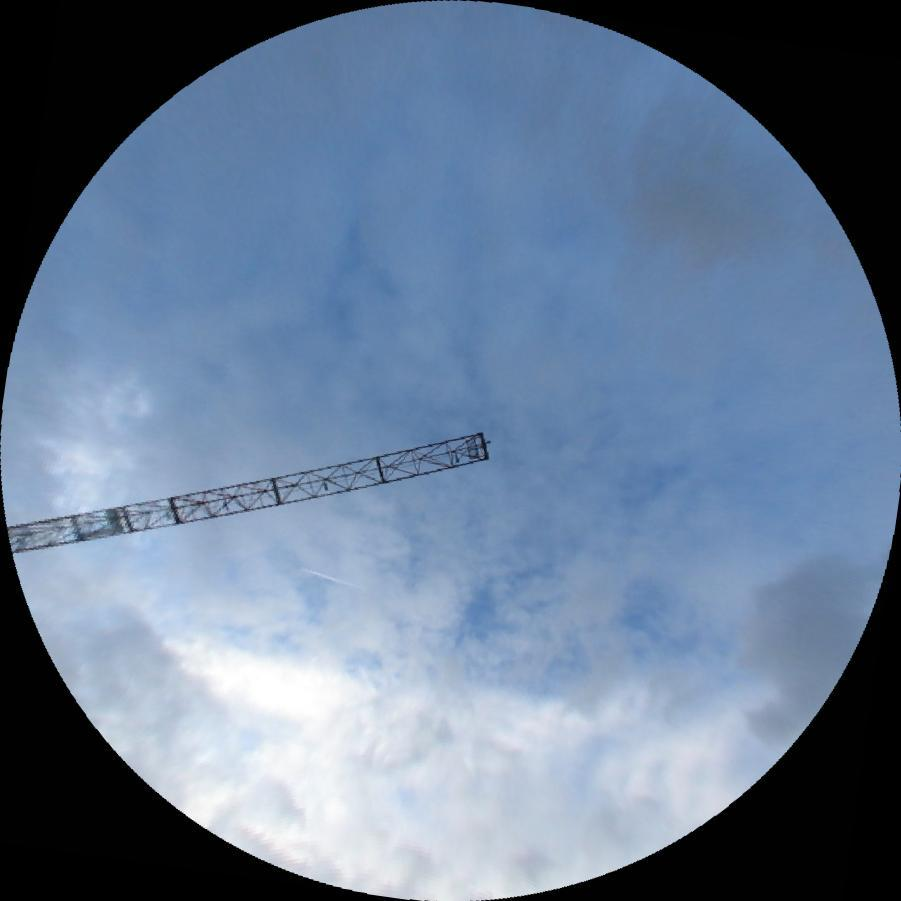contrail young: (299, 566, 364, 592)
